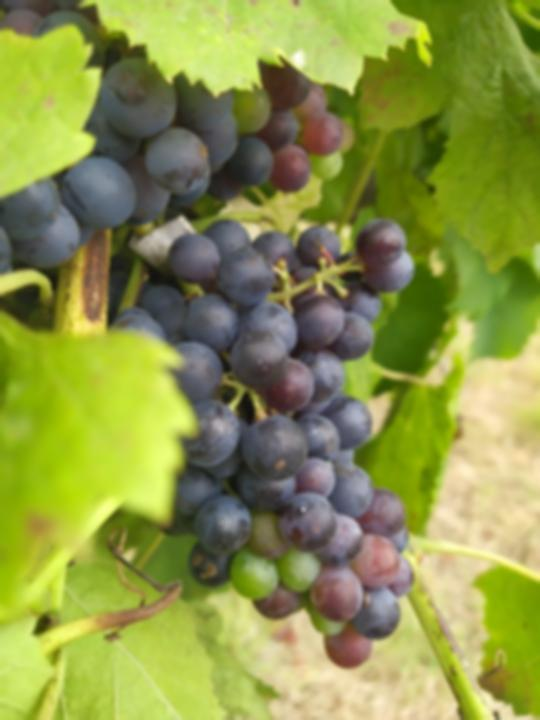grape: (106, 216, 419, 672)
